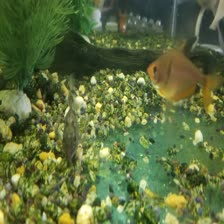Kiros: (51, 81, 93, 162)
Transparente: (144, 35, 221, 111)
